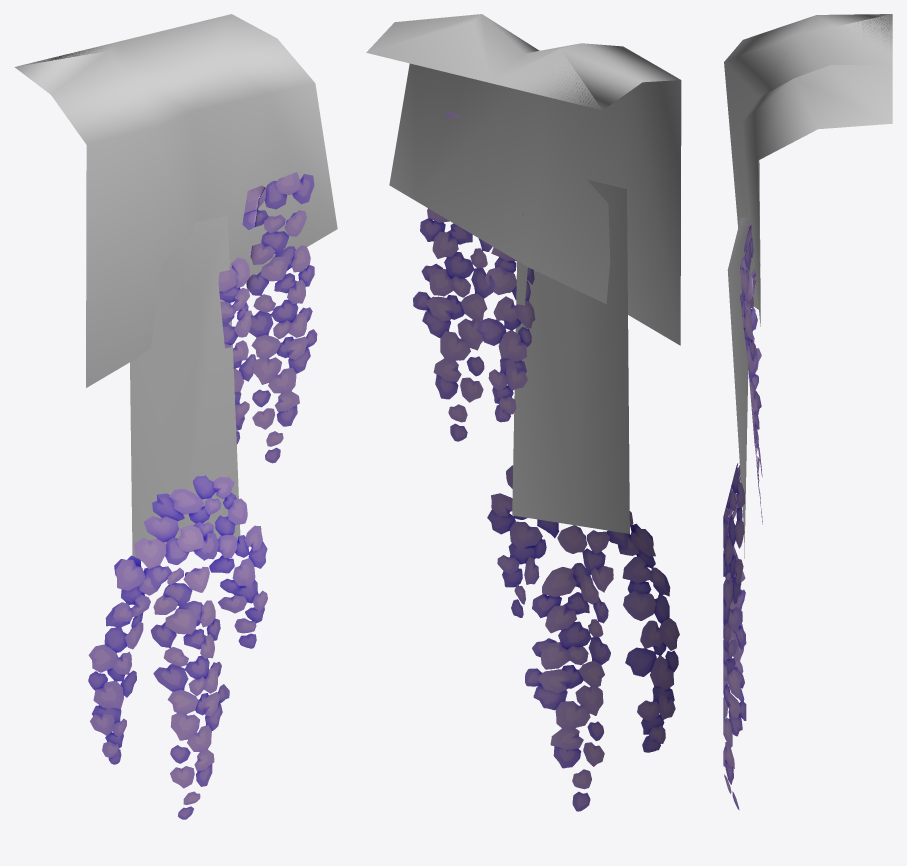
Rendered from SM_Env_Vines_Preset_Overhang_03.fbx.
3 renders of one model, left to right at view 1: azimuth 30°, elevation 25°; view 2: azimuth 150°, elevation 25°; view 3: azimuth 270°, elevation 25°, orthographic. The views are drawn at different scales.
Visible parts, largest first — view 1: SM_Env_Vines_Preset_Overhang_03; view 2: SM_Env_Vines_Preset_Overhang_03; view 3: SM_Env_Vines_Preset_Overhang_03.
Boxes of the visible parts, left/top/right/bottom form: SM_Env_Vines_Preset_Overhang_03: left=14, top=14, right=337, bottom=819; SM_Env_Vines_Preset_Overhang_03: left=366, top=14, right=681, bottom=811; SM_Env_Vines_Preset_Overhang_03: left=723, top=14, right=892, bottom=809.
Size of the model in its own units: 96.5 by 256 by 49.86.
